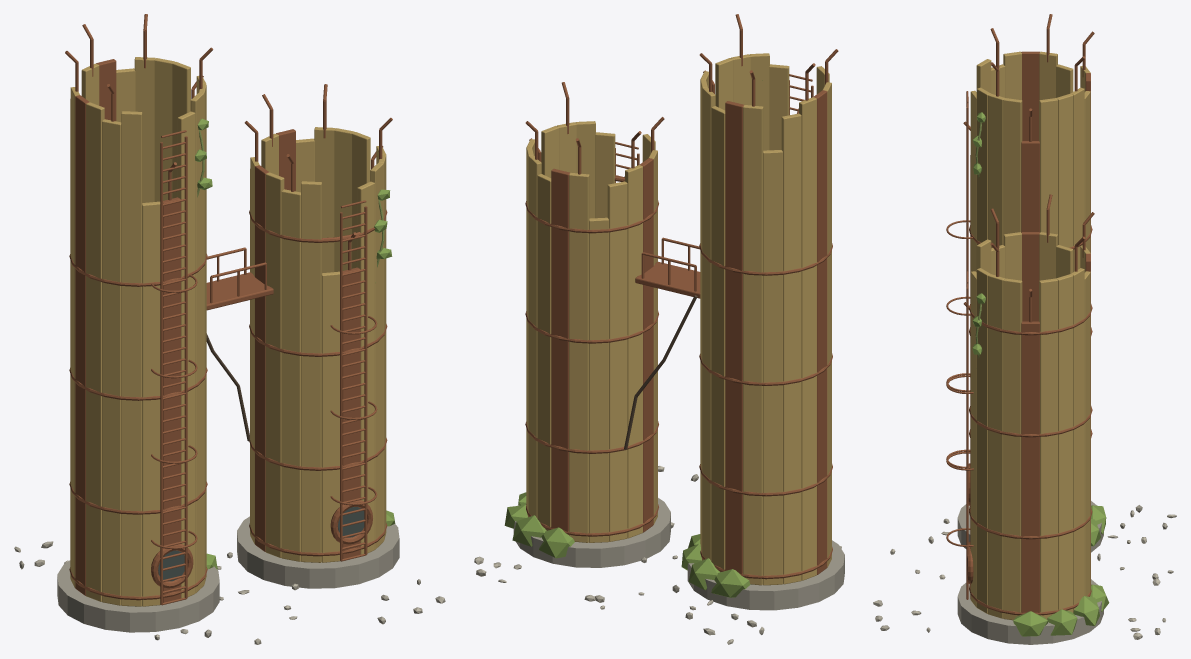
File: Twin_Ruptured_Silos_Revival.glb
The picture shows the model from 3 angles, left to right: view 1: azimuth 30°, elevation 25°; view 2: azimuth 150°, elevation 25°; view 3: azimuth 270°, elevation 25°; orthographic projection. The views are drawn at different scales.
Visible parts, largest first — view 1: Structure, Growth; view 2: Structure, Growth; view 3: Structure, Growth.
Boxes of the visible parts, left/top/right/bottom form: Structure: left=14, top=14, right=445, bottom=644; Growth: left=195, top=118, right=395, bottom=569; Structure: left=474, top=14, right=844, bottom=644; Growth: left=504, top=80, right=762, bottom=597; Structure: left=873, top=14, right=1176, bottom=644; Growth: left=972, top=112, right=1109, bottom=636.
Bounding box in the file's own units: 11.97 × 19.54 × 10.8.
